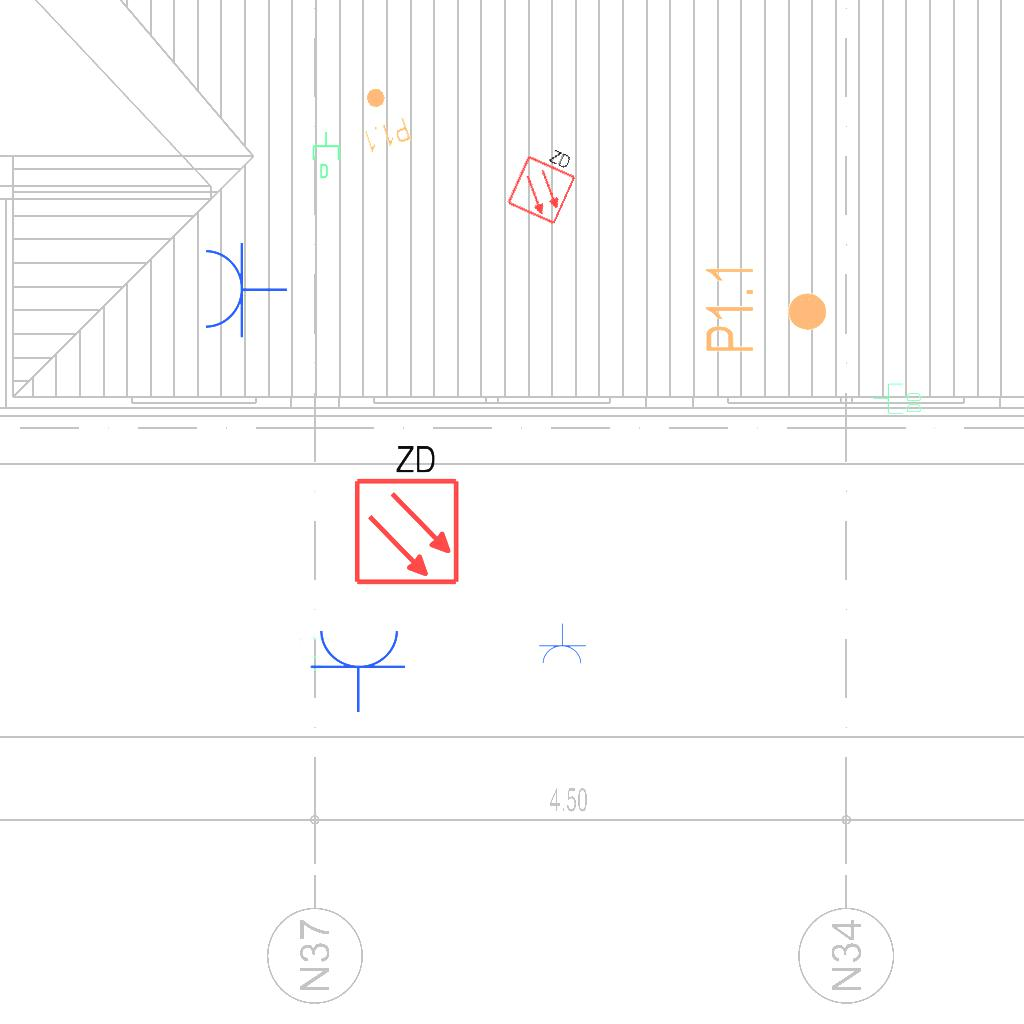Datenanschluss_einfach: (310, 130, 344, 180)
Datenanschluss_zweifach: (297, 622, 331, 673), (872, 382, 923, 416)
Downlight_LED_Einbauleuchten_Flur: (702, 262, 830, 355), (348, 80, 414, 156)
Schukosteckdose_einfach: (201, 239, 288, 339), (309, 626, 409, 713), (537, 623, 587, 666)
ZD_Melder_in_Zwischendecke_mit_Revisionsoeffnung_mind_40_x_40_cm: (348, 438, 462, 587), (503, 135, 586, 227)
